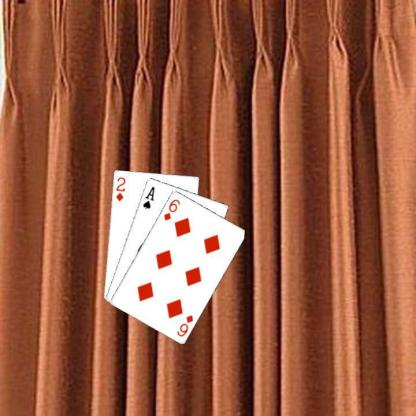2D: (113, 175, 127, 202)
6D: (161, 196, 182, 222), (175, 312, 194, 337)
AS: (140, 184, 156, 209)
